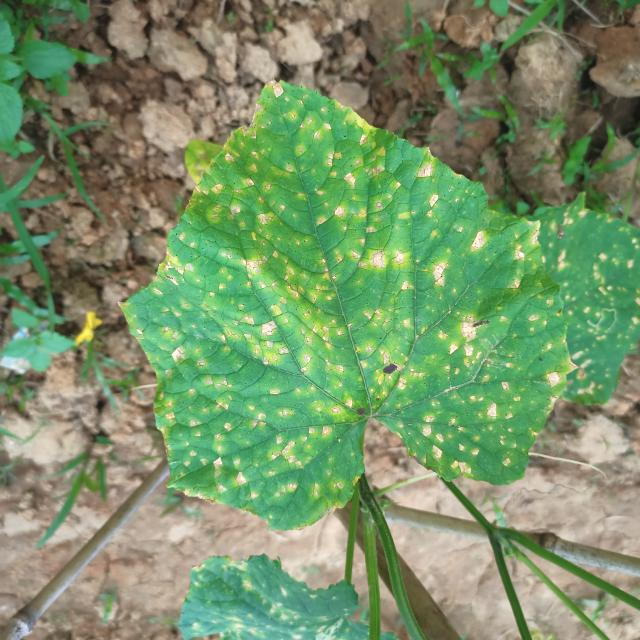disease_cucumber: (147, 110, 546, 513), (549, 217, 640, 393)
